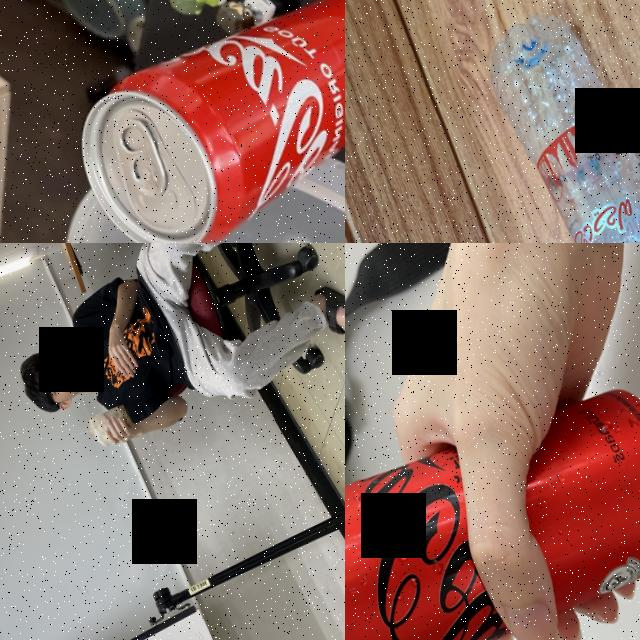bottle: (468, 0, 640, 243)
can: (345, 350, 640, 640), (54, 0, 345, 243)
cup: (84, 400, 140, 452)
